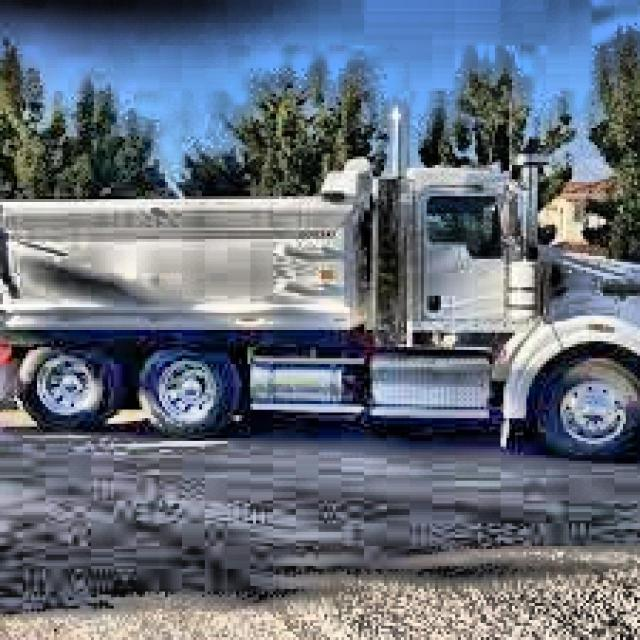dump_truck: (0, 102, 640, 491)
